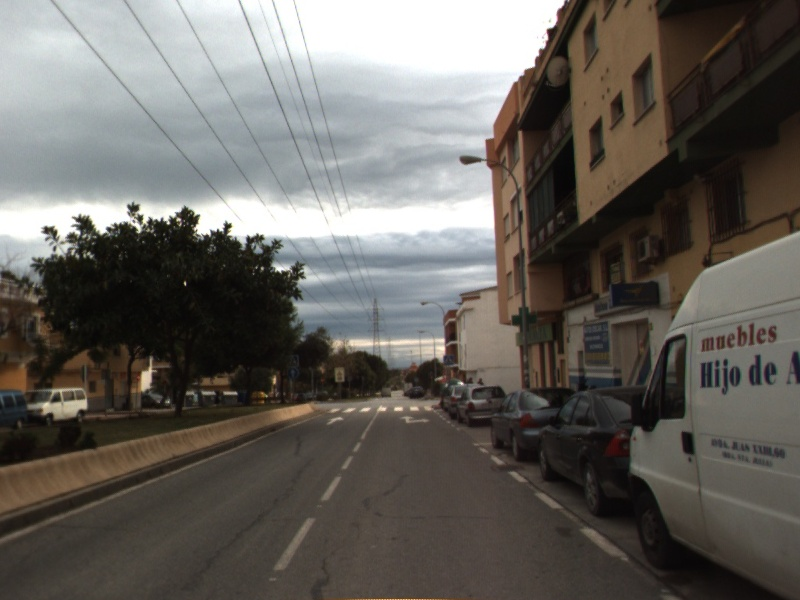STRAIGHT: (324, 415, 346, 427)
STRAIGHT_RIGHT: (398, 413, 432, 425)
